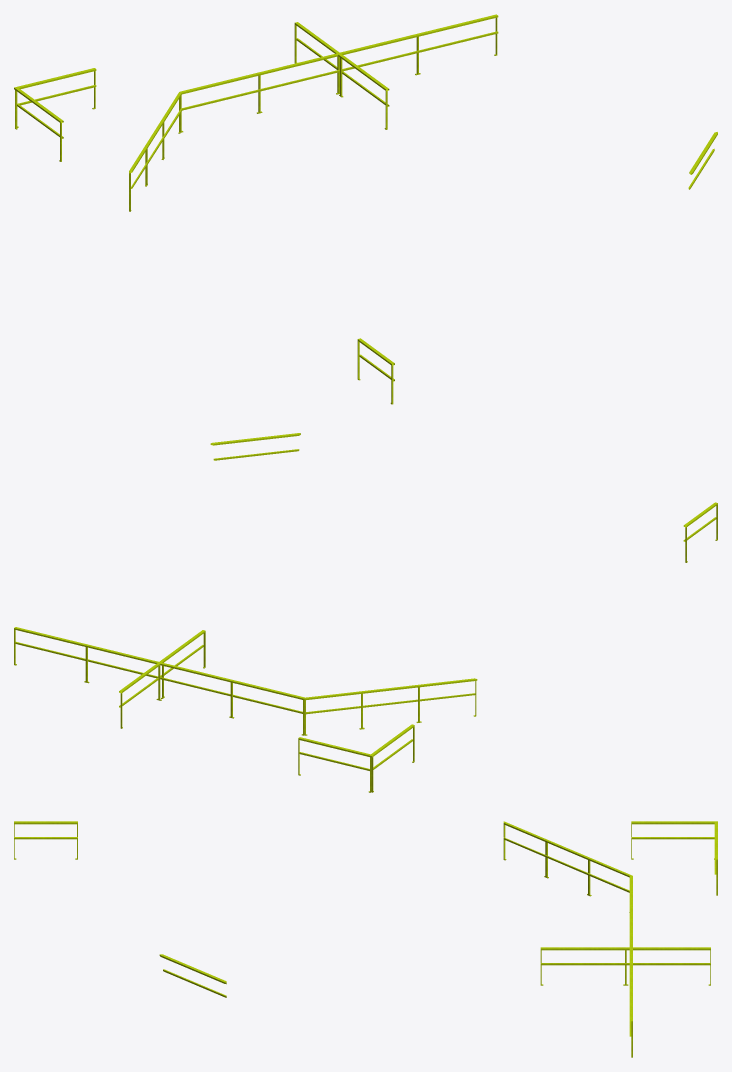
File: Railing_01.fbx
The picture shows the model from 3 angles, top to bottom: view 1: azimuth 30°, elevation 25°; view 2: azimuth 150°, elevation 25°; view 3: azimuth 270°, elevation 25°; orthographic projection. The views are drawn at different scales.
Parts seen in each view (by area): view 1: Railing_1024, Railing_Corner_In_256, Railing_512, Railing_Angle_384; view 2: Railing_1024, Railing_Angle_384, Railing_Corner_In_256, Railing_512; view 3: Railing_512, Railing_Angle_384, Railing_Corner_In_256, Railing_1024, Railing_192, Raining_Angle_192.
Part boxes in pixels (x1=…): Railing_1024: x1=180, y1=14, x2=498, y2=132; Railing_Corner_In_256: x1=14, y1=68, x2=96, y2=161; Railing_512: x1=294, y1=22, x2=389, y2=129; Railing_Angle_384: x1=129, y1=92, x2=182, y2=211; Railing_1024: x1=14, y1=627, x2=304, y2=735; Railing_Angle_384: x1=303, y1=678, x2=477, y2=735; Railing_Corner_In_256: x1=298, y1=724, x2=414, y2=792; Railing_512: x1=119, y1=630, x2=205, y2=728; Railing_512: x1=540, y1=947, x2=710, y2=985; Railing_Angle_384: x1=503, y1=821, x2=632, y2=912; Railing_Corner_In_256: x1=631, y1=821, x2=717, y2=895; Railing_1024: x1=629, y1=876, x2=632, y2=1057; Railing_192: x1=14, y1=821, x2=77, y2=859; Raining_Angle_192: x1=159, y1=954, x2=226, y2=997.
Bounding box in the file's own units: 14.23 × 2.53 × 21.17.
